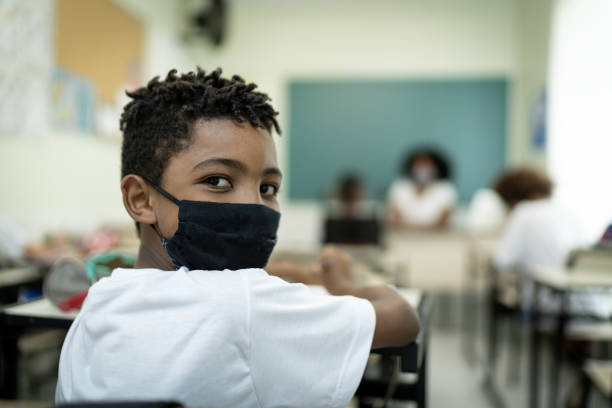with mask: (116, 76, 288, 275), (400, 140, 455, 191)
